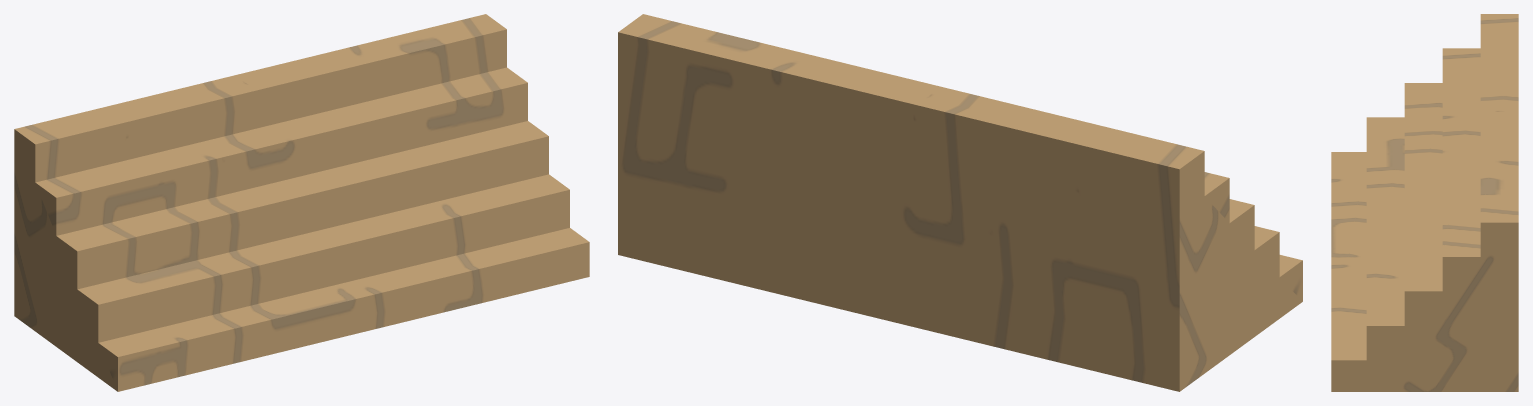
Rendered from Mesh_Stairs.glb.
The picture shows the model from 3 angles, left to right: view 1: azimuth 30°, elevation 25°; view 2: azimuth 150°, elevation 25°; view 3: azimuth 270°, elevation 25°; orthographic projection. The views are drawn at different scales.
Visible parts, largest first — view 1: Cube.037; view 2: Cube.037; view 3: Cube.037.
Boxes of the visible parts, bbox=[...] form: Cube.037: bbox=[14, 14, 589, 391]; Cube.037: bbox=[618, 14, 1302, 391]; Cube.037: bbox=[1331, 14, 1518, 391].
Bounding box in the file's own units: 18.47 × 7 × 7.02.
Materials: 1 (1 with a texture image).
